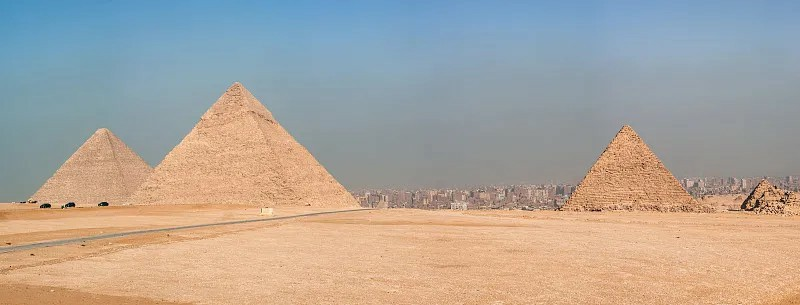Pyramid: (123, 83, 361, 208), (558, 126, 704, 209), (24, 128, 152, 208)
